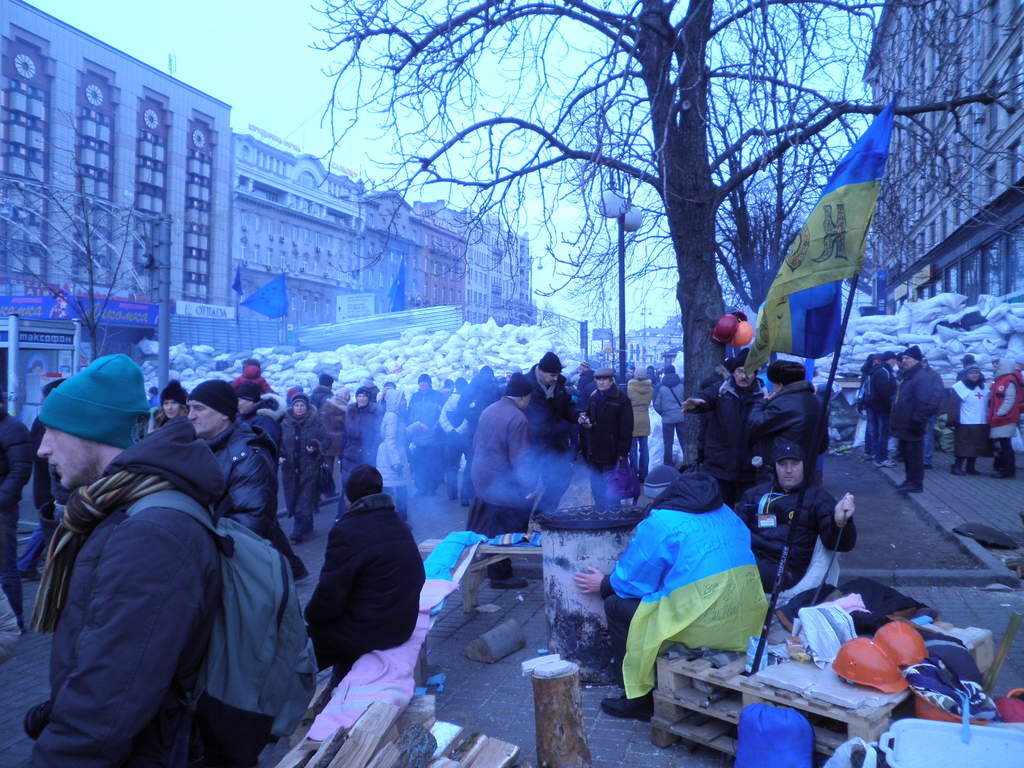Tree: (305, 0, 1023, 463), (0, 165, 149, 374)
